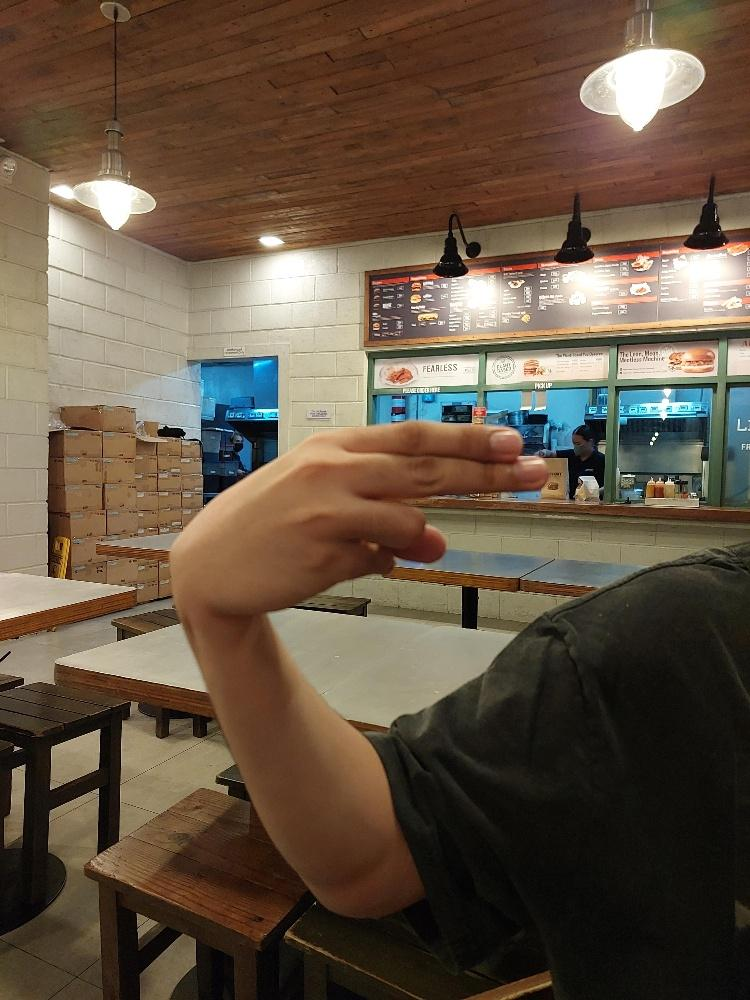h: (168, 416, 549, 617)
